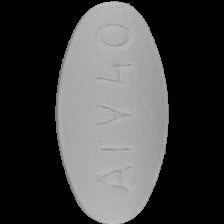53808-1035: (0, 0, 224, 224)
